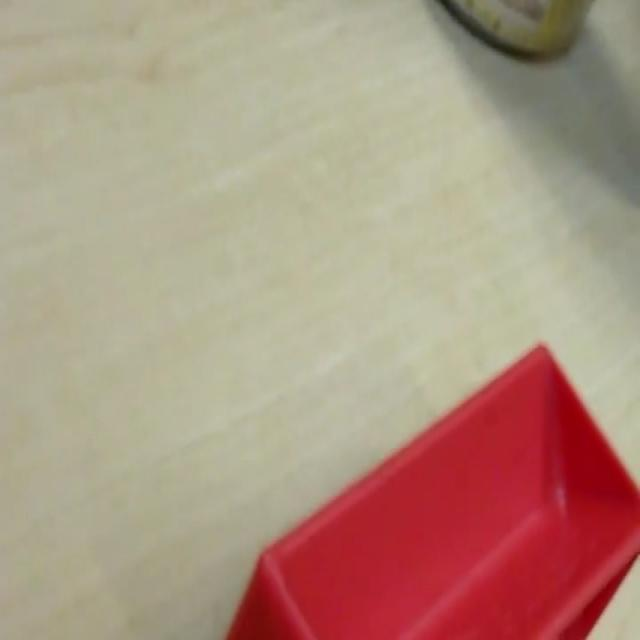red_block: (224, 339, 638, 637)
